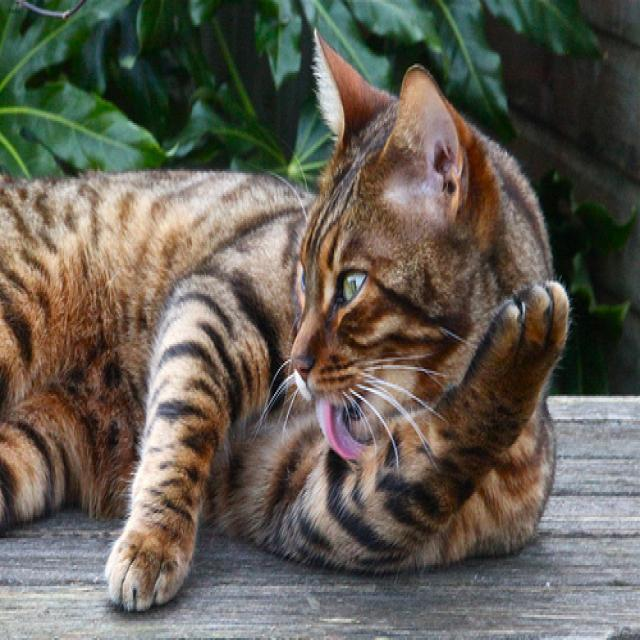Bengal: (282, 26, 548, 471)
